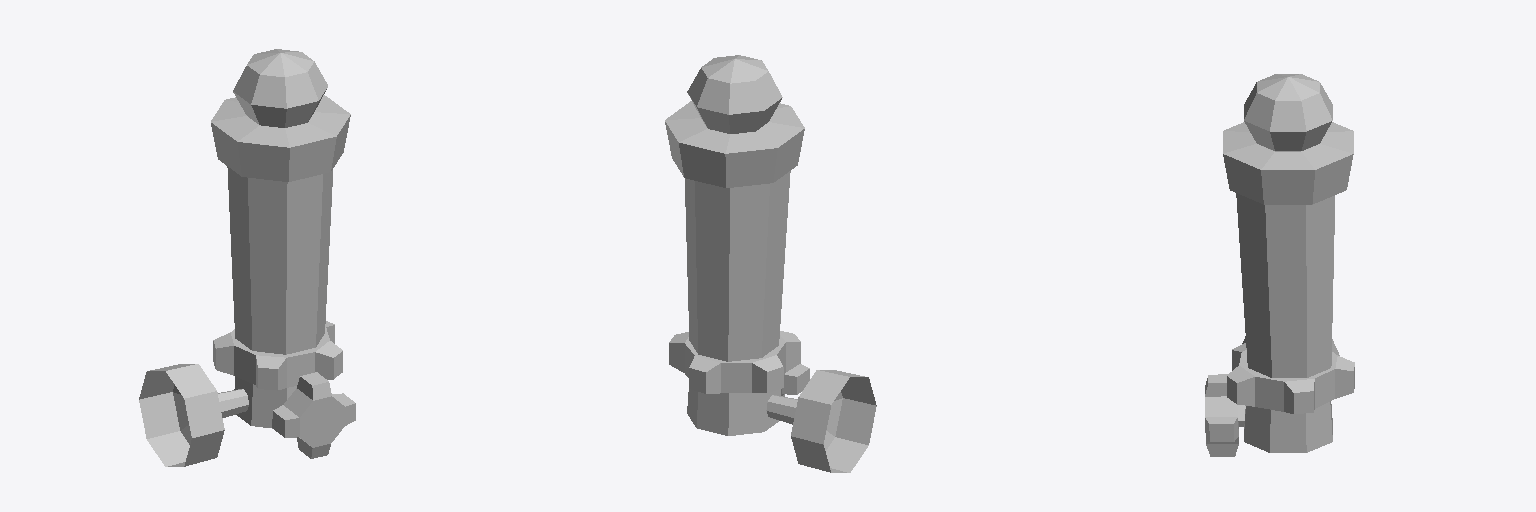
Rendered from barbershop_polewall.obj.
3 views of the same model, side by side, from view 1: azimuth 30°, elevation 25°; view 2: azimuth 150°, elevation 25°; view 3: azimuth 270°, elevation 25° (orthographic).
Visible parts, largest first — view 1: barbershop_polewall; view 2: barbershop_polewall; view 3: barbershop_polewall.
Part boxes in pixels (x1,y1,x2,y2): barbershop_polewall: (139, 49, 355, 466); barbershop_polewall: (665, 55, 876, 472); barbershop_polewall: (1205, 74, 1354, 456).
Size of the model in its own units: 0.8655 by 1.85 by 0.6537.